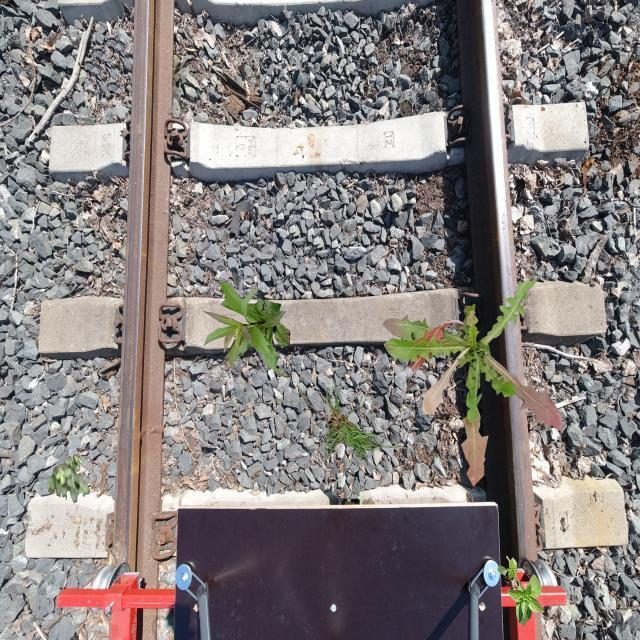Plant: (383, 279, 563, 488), (273, 376, 416, 466), (202, 279, 290, 376), (498, 556, 546, 627), (47, 453, 90, 503)
